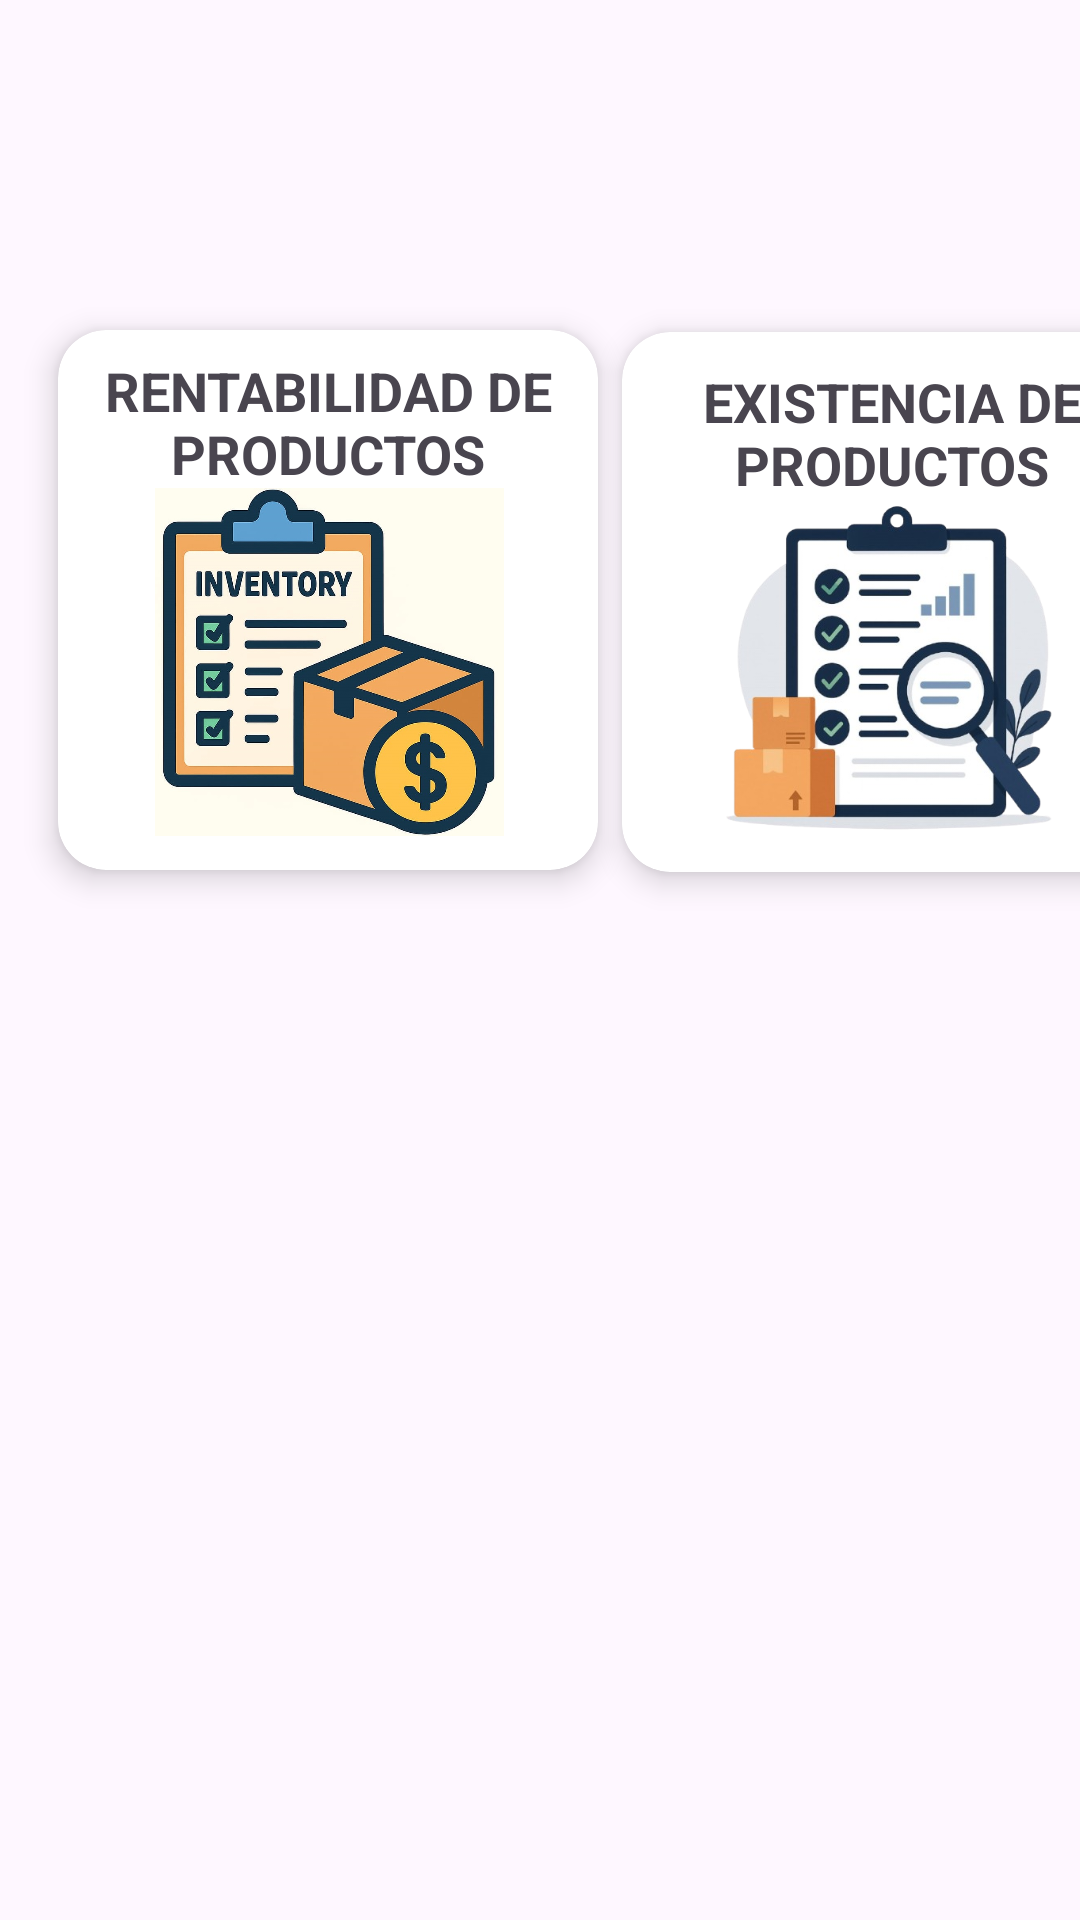

Icon click points for this 1080 × 1920 phone screenshot, format point (x, y):
valorinventario: point (328, 662)
